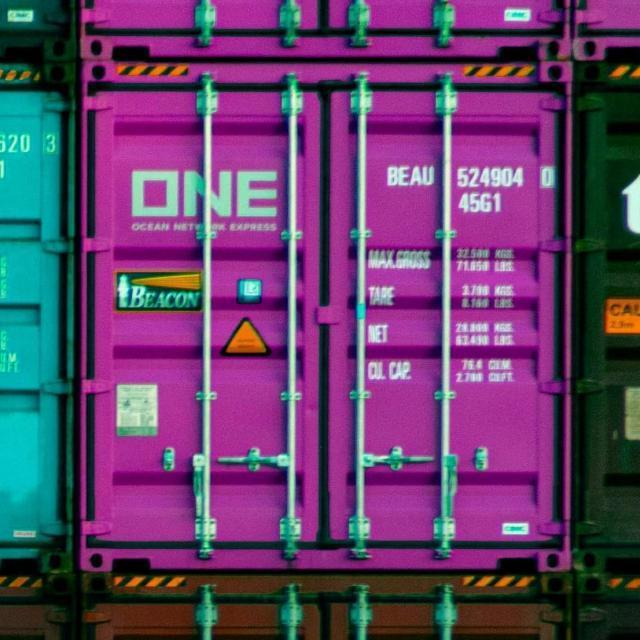ISO: (458, 192, 504, 214)
container_number: (388, 165, 550, 189)
